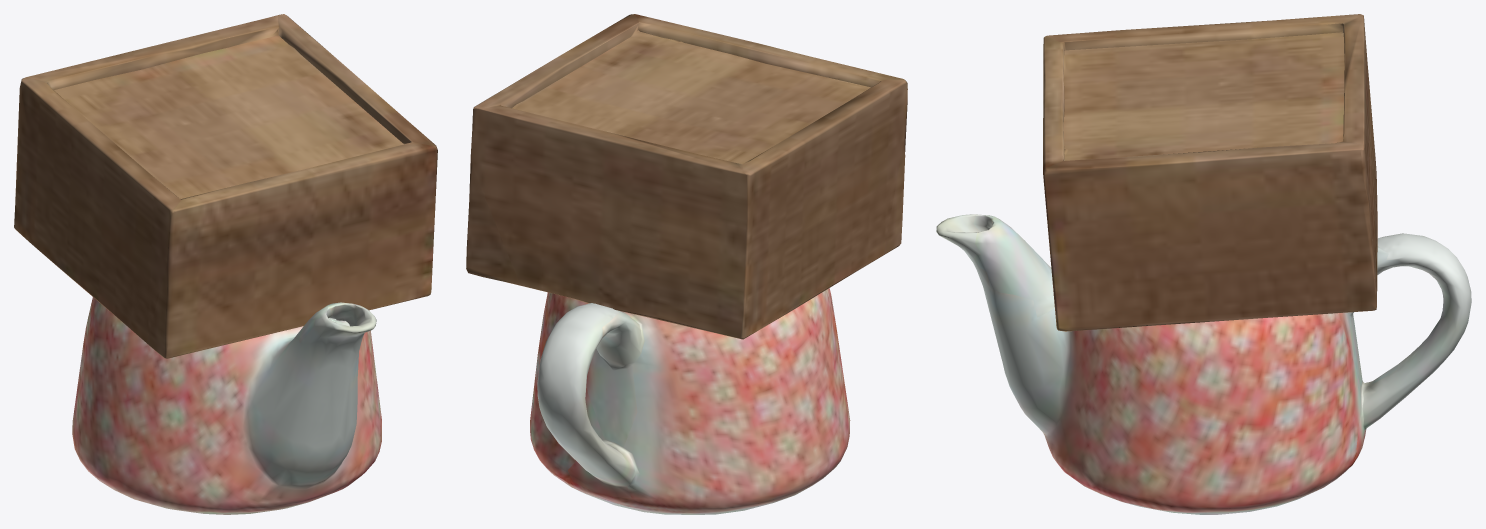
File: draco_glb.glb
3 renders of one model, left to right at view 1: azimuth 30°, elevation 25°; view 2: azimuth 150°, elevation 25°; view 3: azimuth 270°, elevation 25°, orthographic. The views are drawn at different scales.
Visible parts, largest first — view 1: ProcessedMeshNode; view 2: ProcessedMeshNode; view 3: ProcessedMeshNode.
Boxes of the visible parts, bbox=[...] form: ProcessedMeshNode: bbox=[14, 14, 437, 514]; ProcessedMeshNode: bbox=[466, 14, 907, 514]; ProcessedMeshNode: bbox=[936, 14, 1471, 514].
Bounding box in the file's own units: 0.1081 × 0.1404 × 0.1785.
Materials: 1 (1 with a texture image).
